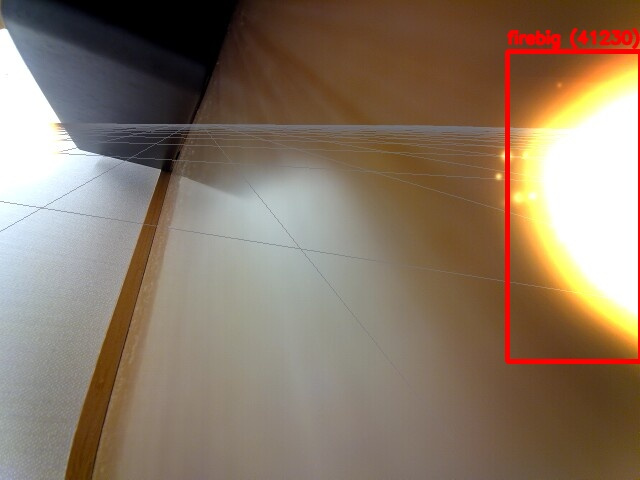firebig: (507, 51, 640, 361)
